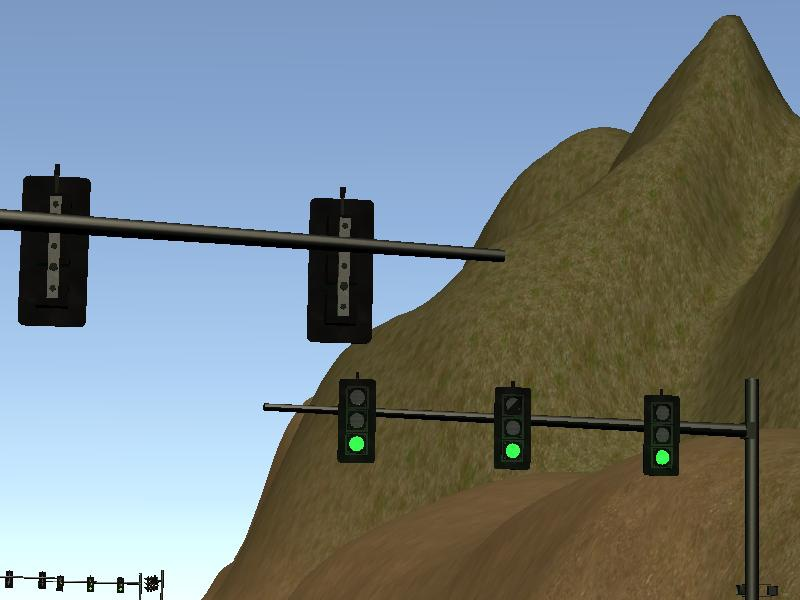Green: (495, 388, 530, 469), (340, 380, 374, 461), (645, 397, 678, 477), (116, 578, 124, 593), (88, 577, 94, 592)
